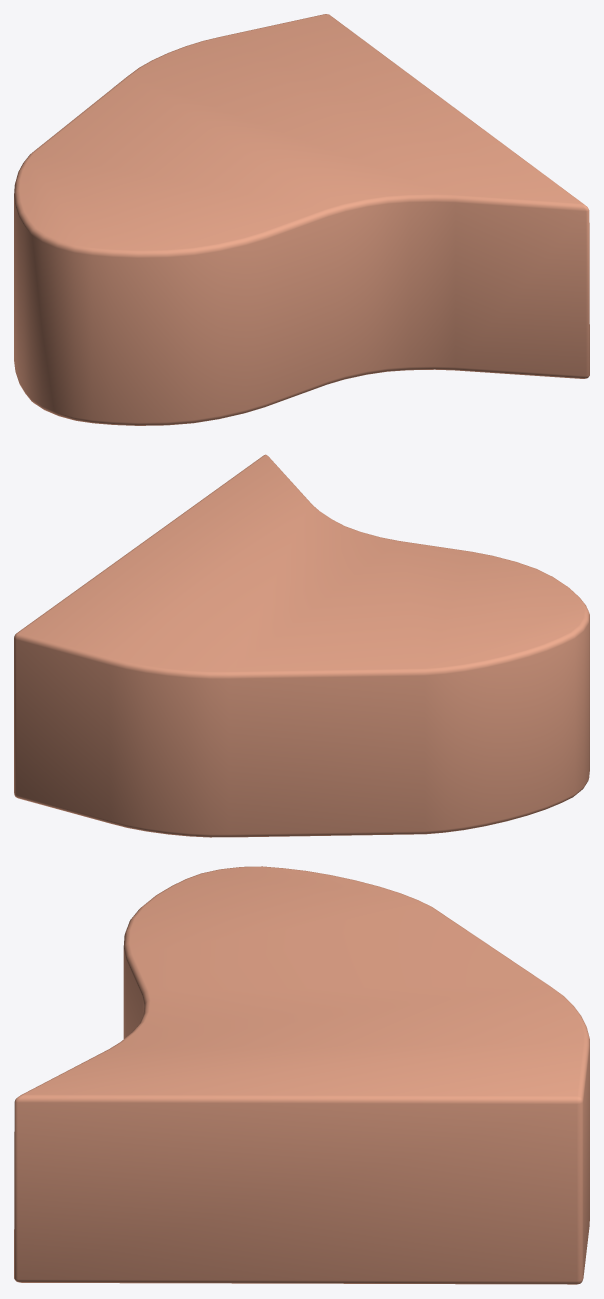
File: island_lv14_1.fbx
The picture shows the model from 3 angles, top to bottom: view 1: azimuth 30°, elevation 25°; view 2: azimuth 150°, elevation 25°; view 3: azimuth 270°, elevation 25°; orthographic projection. The views are drawn at different scales.
Parts seen in each view (by area): view 1: island_lv14_1; view 2: island_lv14_1; view 3: island_lv14_1.
Boxes of the visible parts, bbox=[...] form: island_lv14_1: bbox=[14, 14, 589, 425]; island_lv14_1: bbox=[14, 454, 589, 837]; island_lv14_1: bbox=[14, 866, 589, 1284].
Bounding box in the file's own units: 1337 × 500 × 1389.
